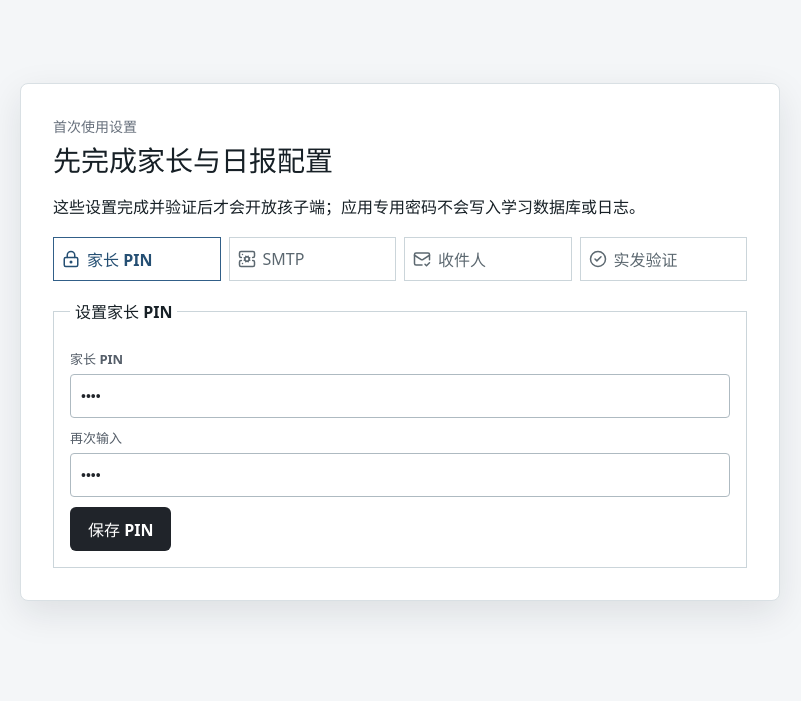
it: InstallationSetupWizard › requires the PIN, SMTP secret, recipients and a real delivery test before completion
This screenshot has width=801, height=701.
Earlier steps of the test are not shown.
Later steps or results of the test are not shown.
Click the button "保存 PIN". click: [121, 529]
box: [70,507,172,551]
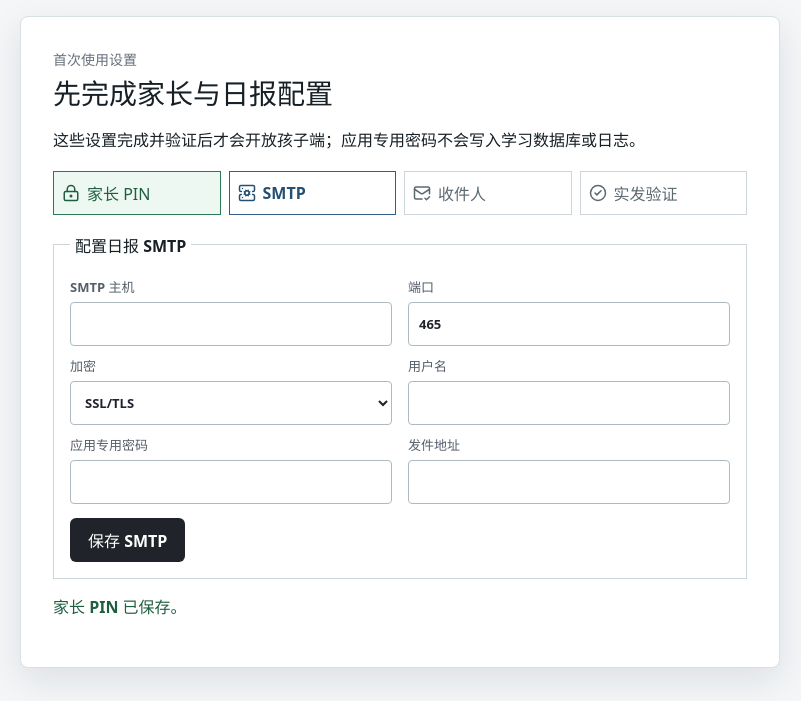
Result: the field named "初始化SMTP主机" is shown
Type "smtp.example.com" into the field named "初始化SMTP主机". click: [231, 324]
box: [70,302,392,346]
Type "parent@example.com" into the field named "初始化SMTP用户名". click: [569, 402]
box: [408,380,730,424]
Type "synthetic-c0741d74e1d41a97476cbf1e" into the password field named "初始化SMTP密码". click: [231, 482]
box: [70,460,392,504]
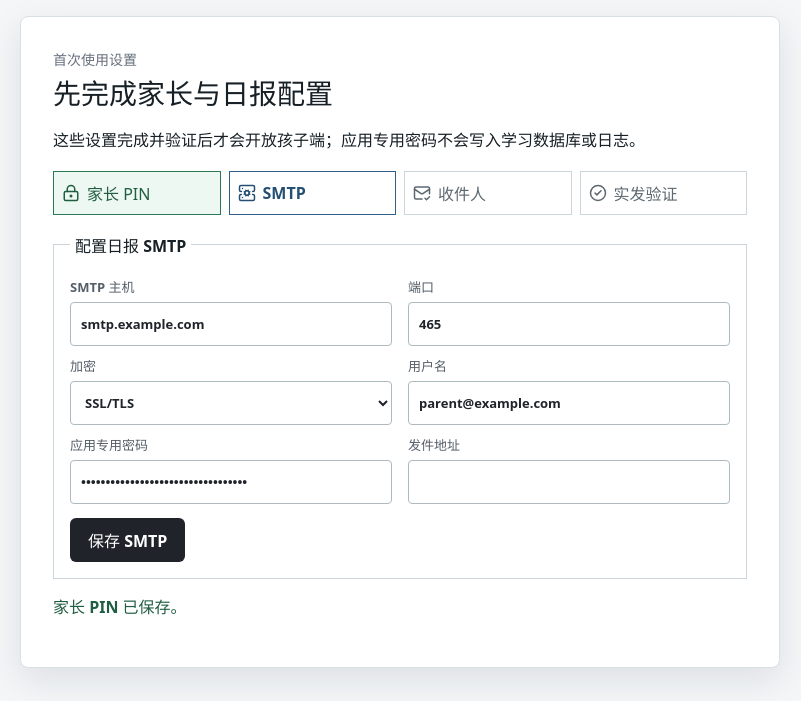
Type "parent@example.com" into the field named "初始化SMTP发件地址". click: [569, 482]
box: [408,460,730,504]
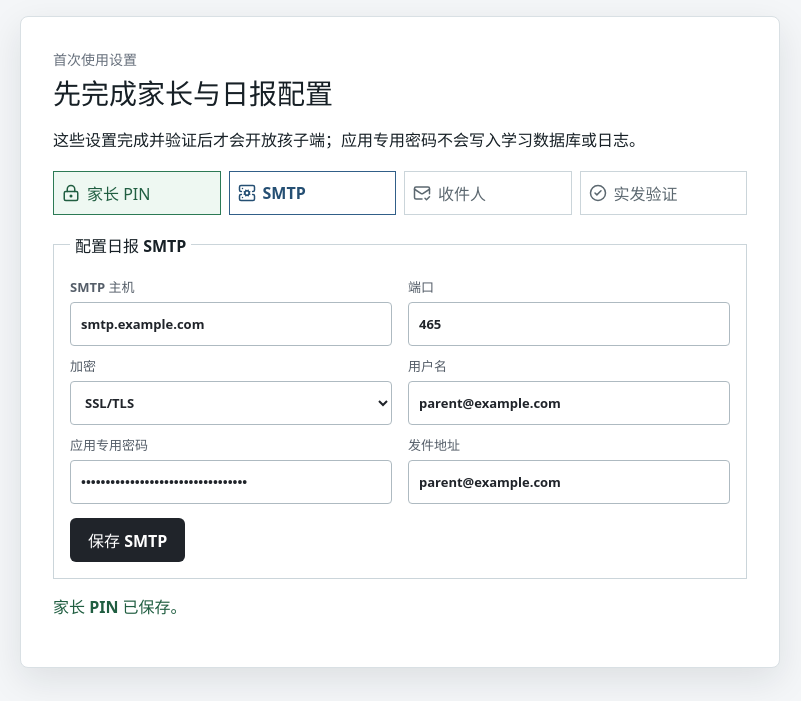
Click the button "保存 SMTP". click: [128, 540]
box: [70,518,185,562]
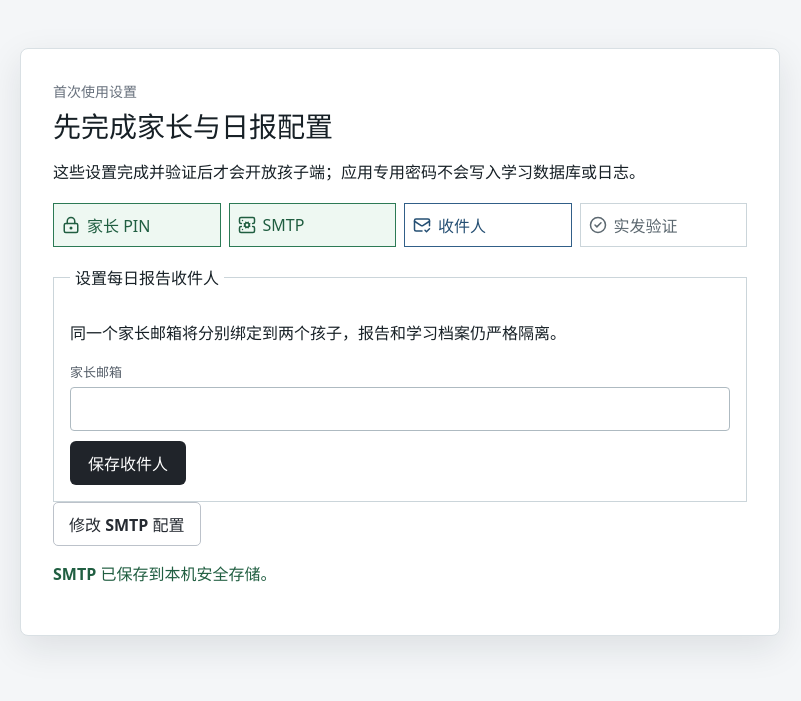
Result: the field named "初始化收件邮箱" is shown
Type "family@example.com" into the field named "初始化收件邮箱". click: [400, 409]
box: [70,387,730,431]
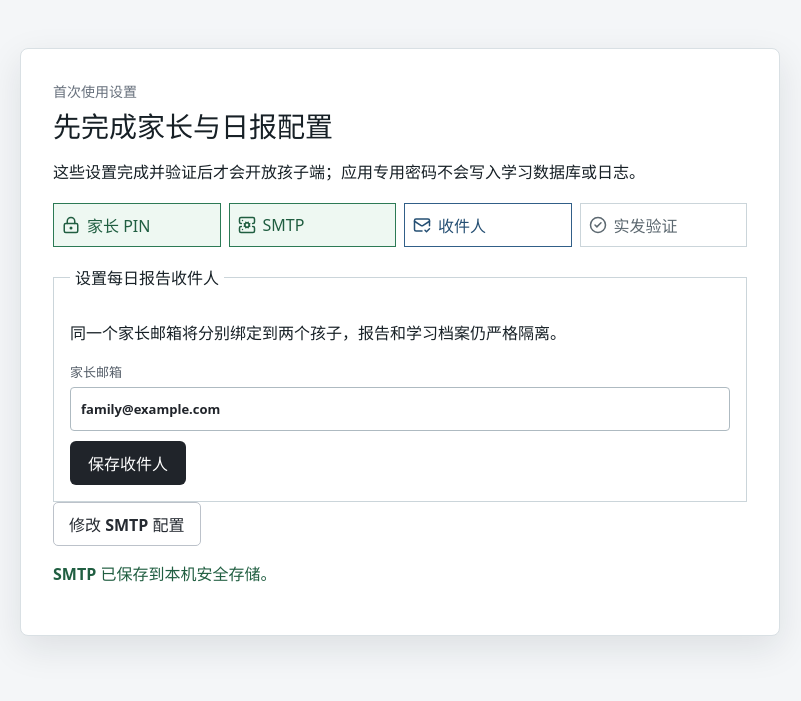
Click the button "保存收件人". click: [128, 463]
box: [70,441,186,485]
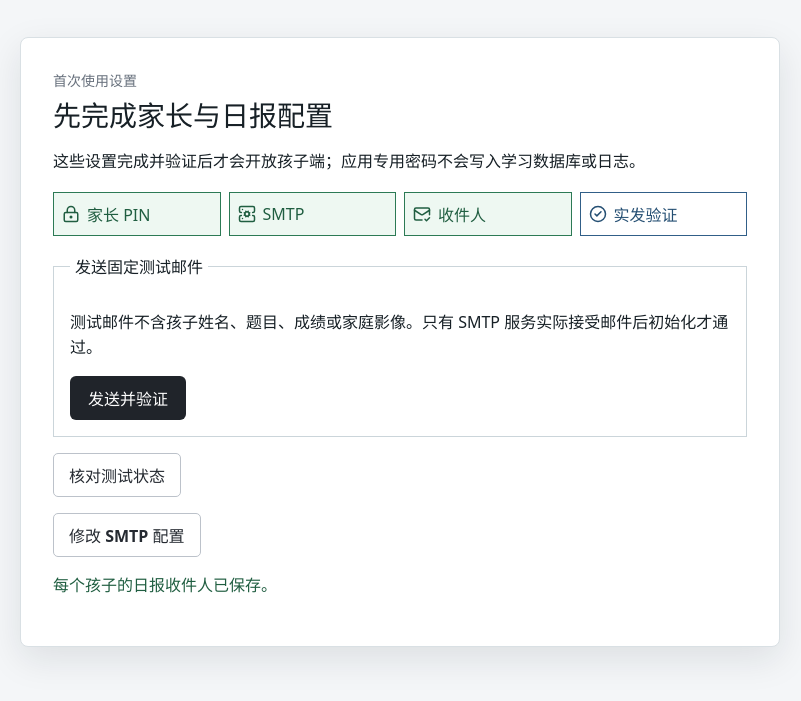
Expected: the button "发送并验证" is enabled, [70,376,186,420]
Result: the button "发送并验证" is shown at [70,376,186,420]
